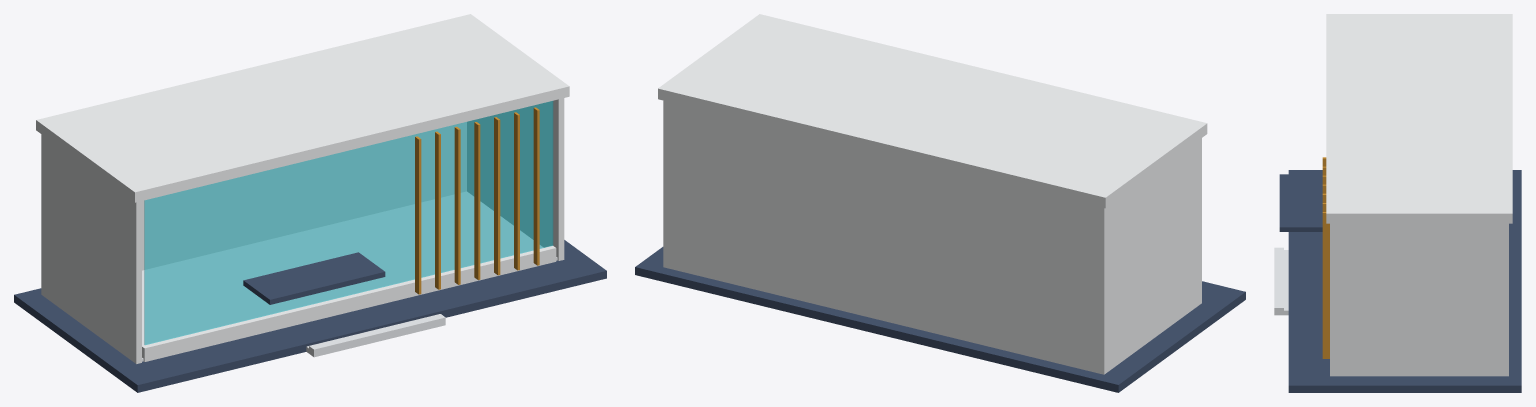
File: gedung_perpustakaan_digital.glb
The picture shows the model from 3 angles, left to right: view 1: azimuth 30°, elevation 25°; view 2: azimuth 150°, elevation 25°; view 3: azimuth 270°, elevation 25°; orthographic projection. The views are drawn at different scales.
Parts seen in each view (by area): view 1: Gedung_Perpustakaan_Digital, Undakan_Stairs; view 2: Gedung_Perpustakaan_Digital; view 3: Gedung_Perpustakaan_Digital, Undakan_Stairs.
Boxes of the visible parts, bbox=[...] form: Gedung_Perpustakaan_Digital: bbox=[14, 14, 606, 392]; Undakan_Stairs: bbox=[306, 314, 445, 357]; Gedung_Perpustakaan_Digital: bbox=[635, 14, 1245, 392]; Gedung_Perpustakaan_Digital: bbox=[1279, 14, 1521, 392]; Undakan_Stairs: bbox=[1274, 247, 1288, 315].
Size of the model in its own units: 28.5 by 10.55 by 13.8.
